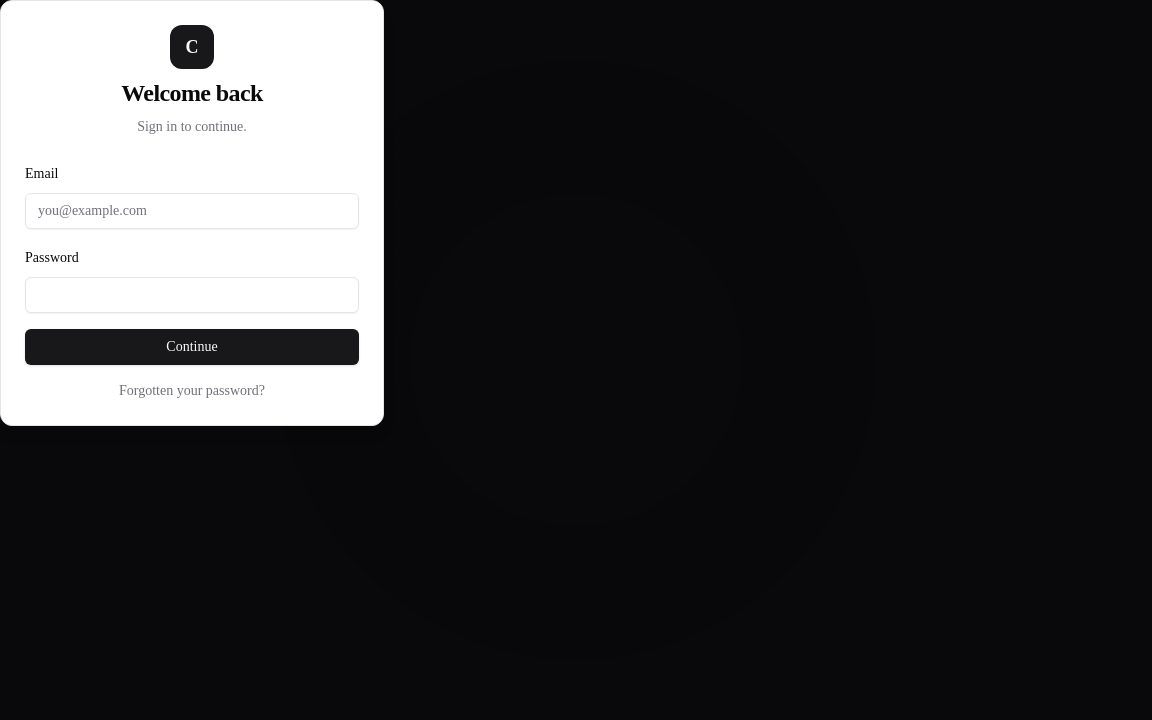
Test: sign-in — step 1, the credentials › blocks an invalid email locally and sends nothing
The width and height of the screenshot is (1152, 720).
In the field labelled "Email": (192, 211) top-left (25, 193), bottom-right (359, 229), type "not-an-email"
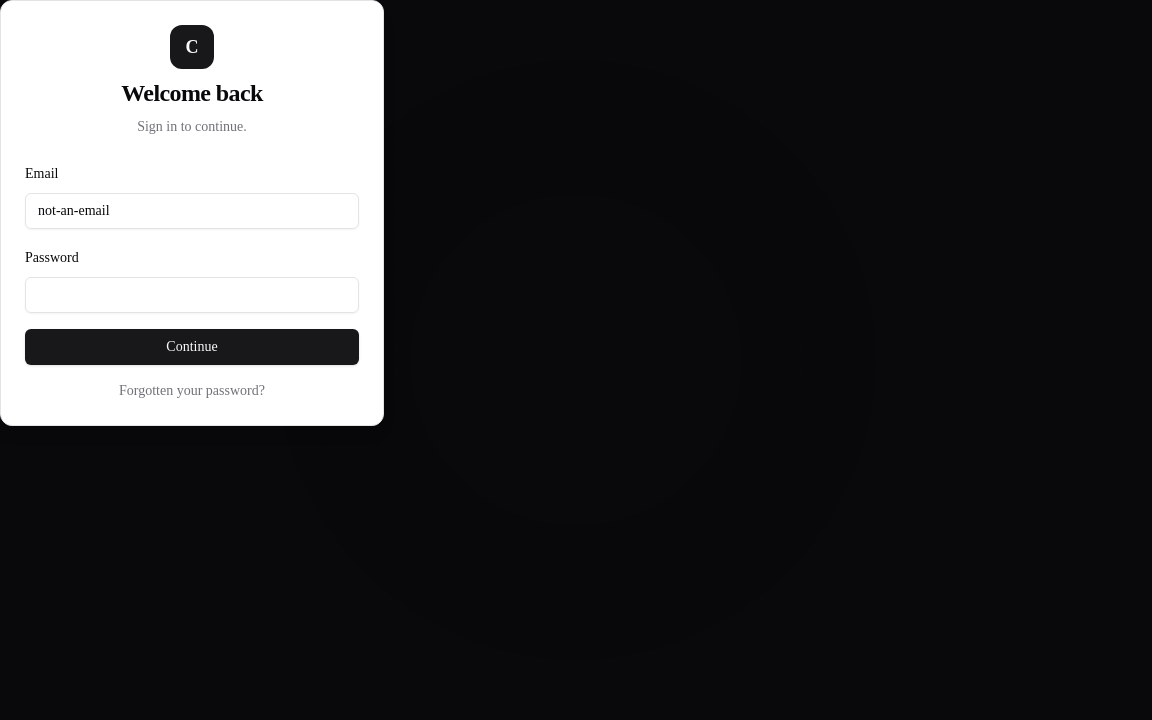
In the password field labelled "Password": (192, 295) top-left (25, 277), bottom-right (359, 313), type "pw"
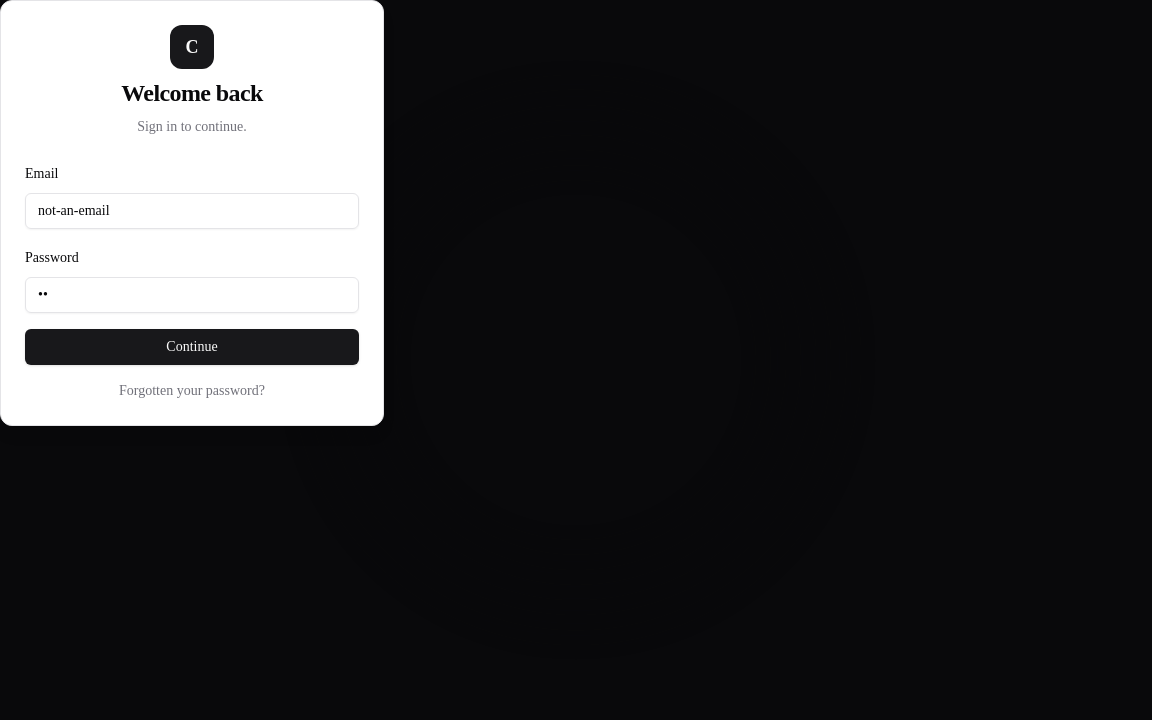
Click the button "Continue": (192, 347) top-left (25, 329), bottom-right (359, 365)
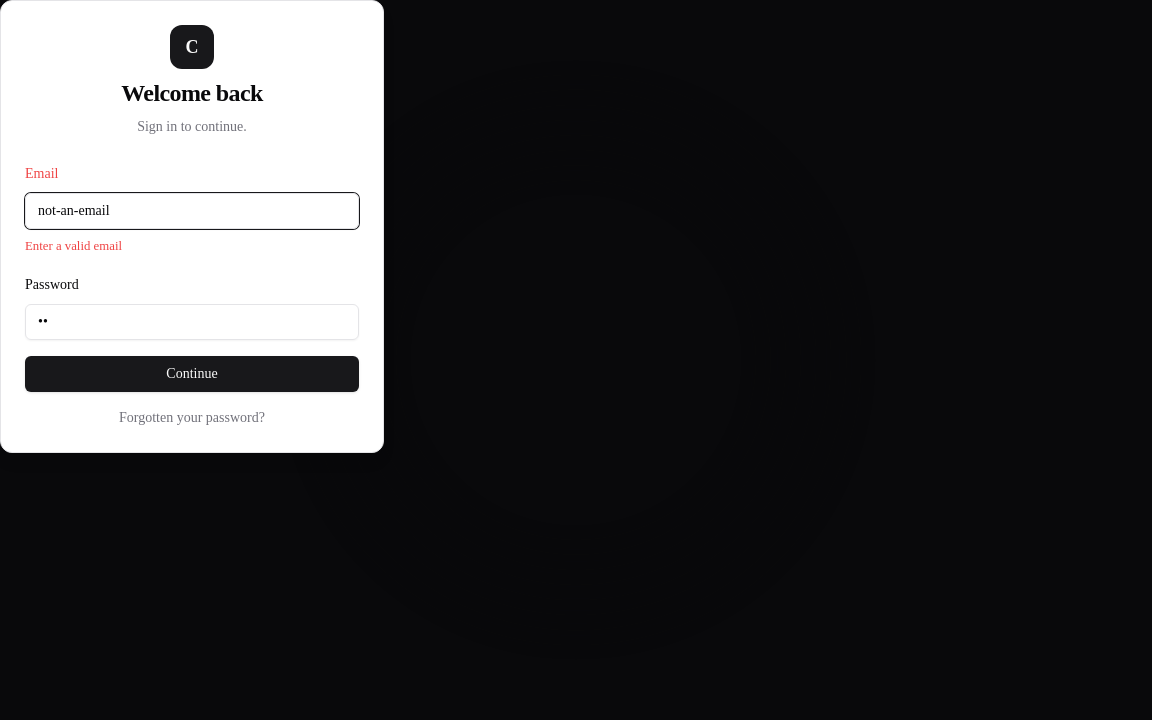
Expected: the text "Enter a valid email" is shown, top-left (25, 239), bottom-right (122, 253)
